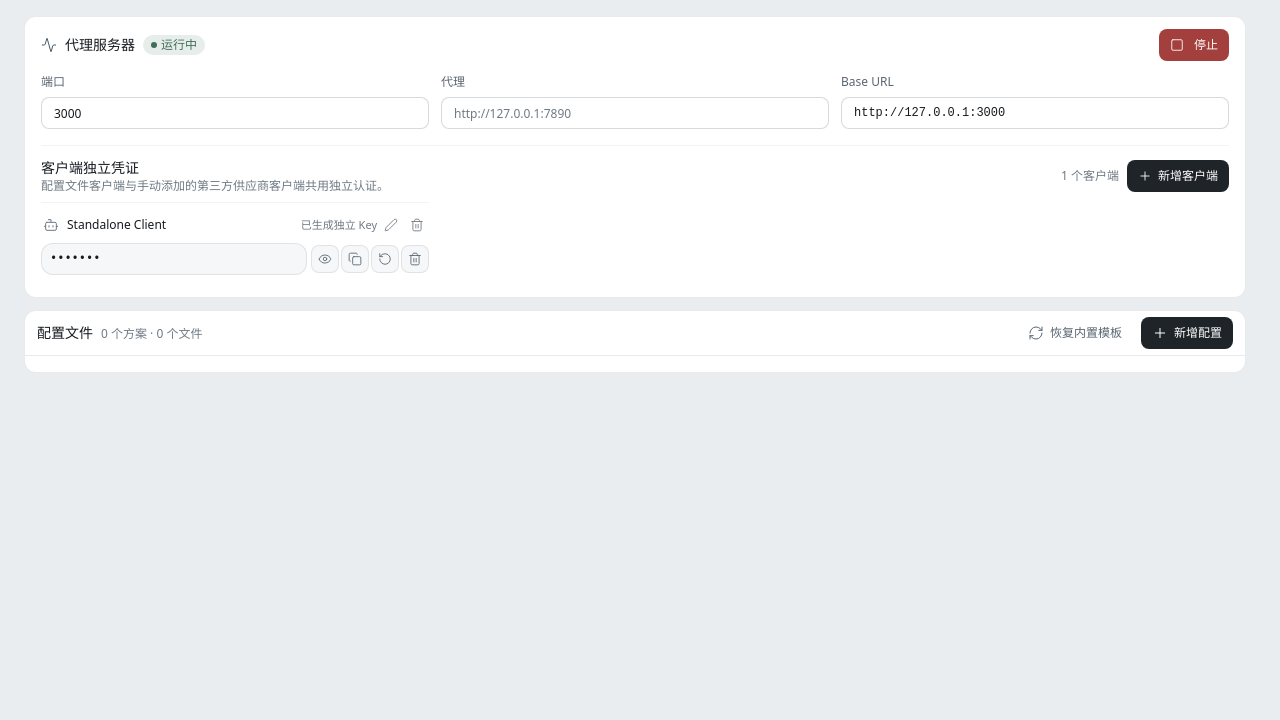
route workbench redesign › rotates credential-only keys with a transaction that does not require file matches
Click the button named "轮换 Standalone Client API Key". click: (385, 259)
box: [371,245,399,273]
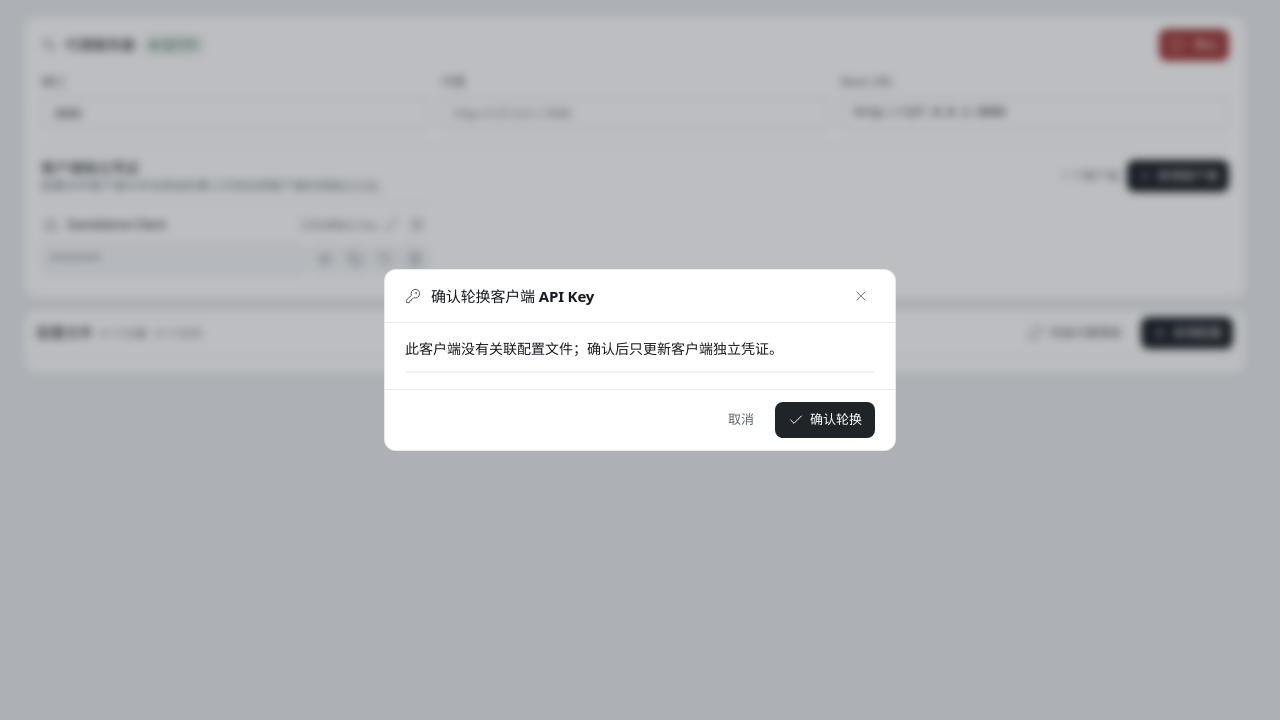
expect the text "此客户端没有关联配置文件；确认后只更新客户端独立凭证。" is shown: met, box [405,339,783,358]
Click the button "确认轮换". click: (825, 420)
box: [775,402,875,438]
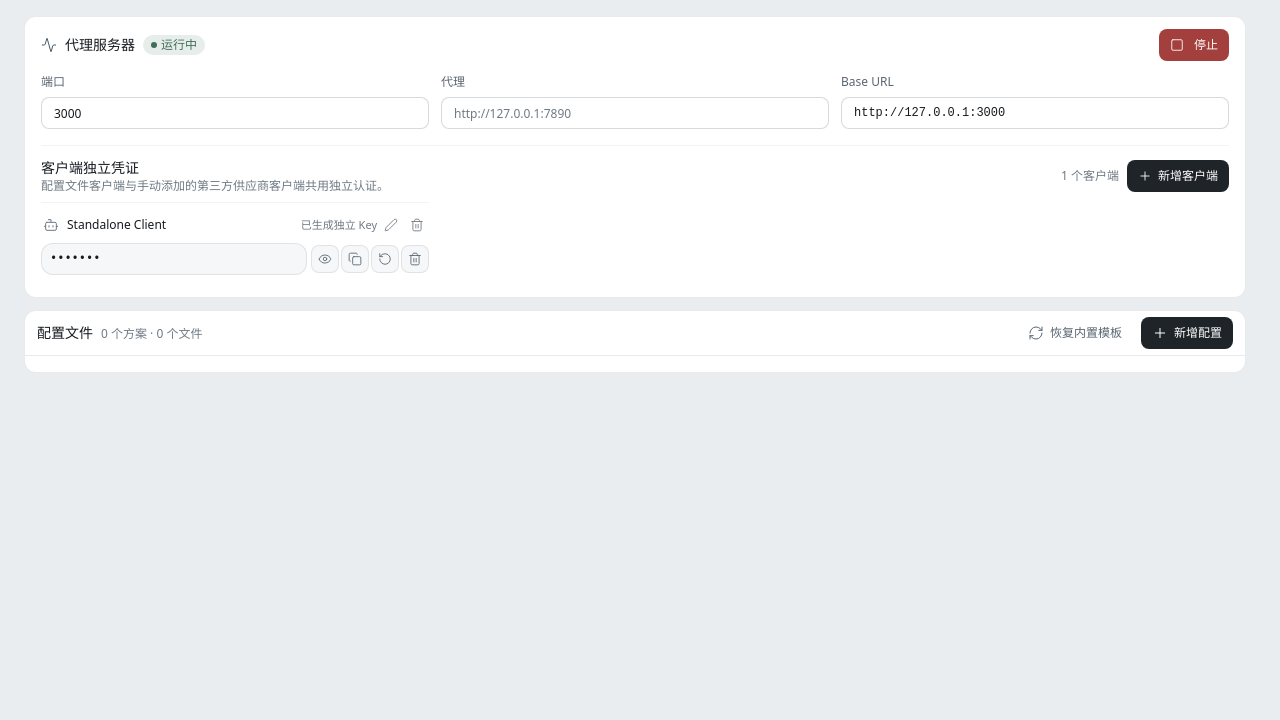
expect the password field named "Standalone Client API Key" holds "new-key": met, box [41,243,307,275]
